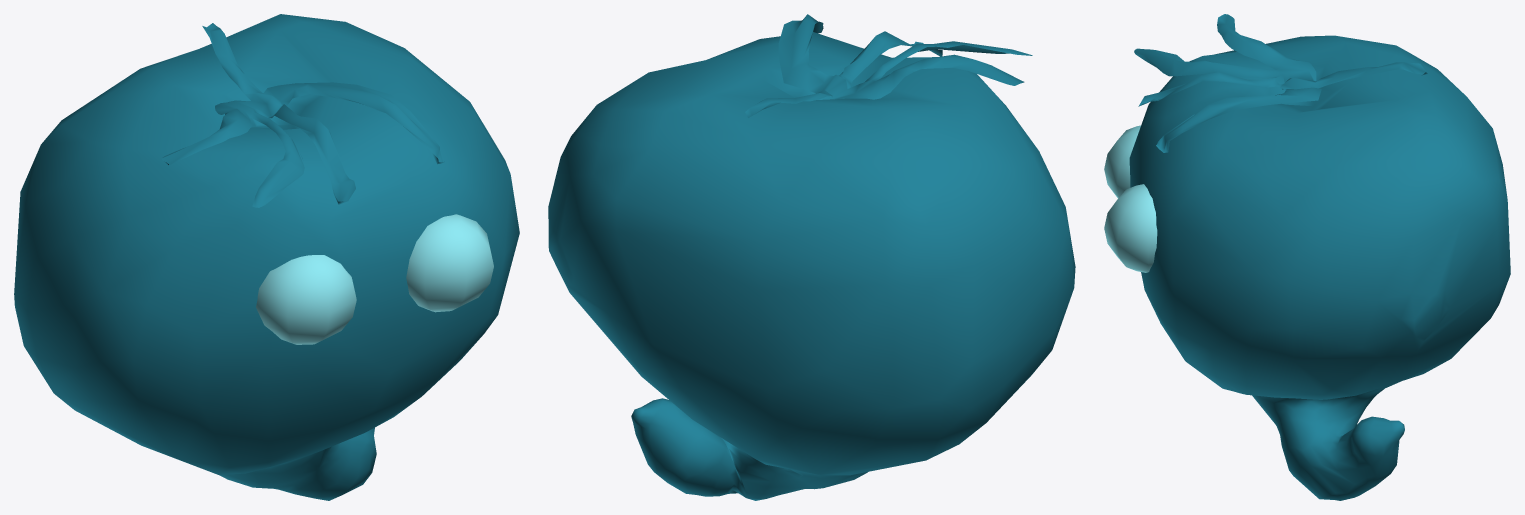
Rendered from たましい＿トマト.fbx.
The picture shows the model from 3 angles, left to right: view 1: azimuth 30°, elevation 25°; view 2: azimuth 150°, elevation 25°; view 3: azimuth 270°, elevation 25°; orthographic projection. The views are drawn at different scales.
Visible parts, largest first — view 1: 平面.001 (×2), 球.002, 平面.004; view 2: 平面.001 (×2), 平面.004; view 3: 平面.001 (×2), 平面.004, 球.002.
Boxes of the visible parts, bbox=[...] form: 平面.001 (×2): bbox=[14, 14, 519, 500]; 球.002: bbox=[256, 214, 493, 344]; 平面.004: bbox=[162, 23, 443, 207]; 平面.001 (×2): bbox=[548, 32, 1075, 500]; 平面.004: bbox=[745, 14, 1032, 117]; 平面.001 (×2): bbox=[1129, 35, 1510, 500]; 平面.004: bbox=[1134, 14, 1427, 152]; 球.002: bbox=[1104, 125, 1157, 272].
Bounding box in the file's own units: 399 × 383 × 357.
